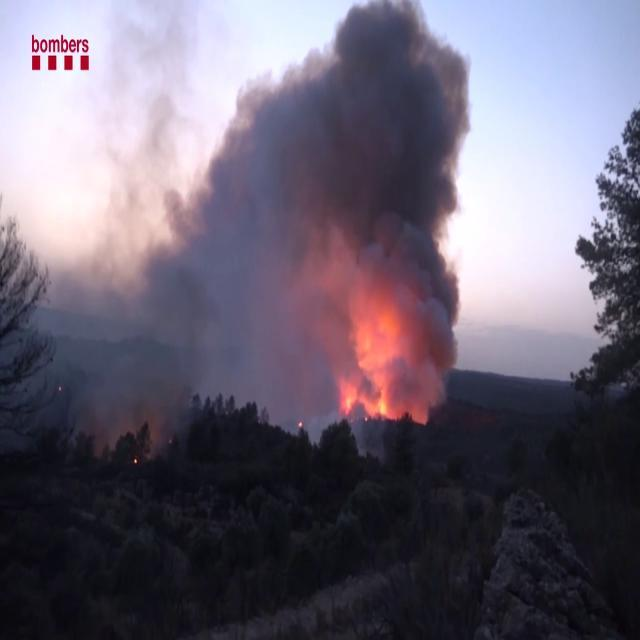Fire: (336, 298, 410, 419)
Smoke: (11, 1, 483, 426)
